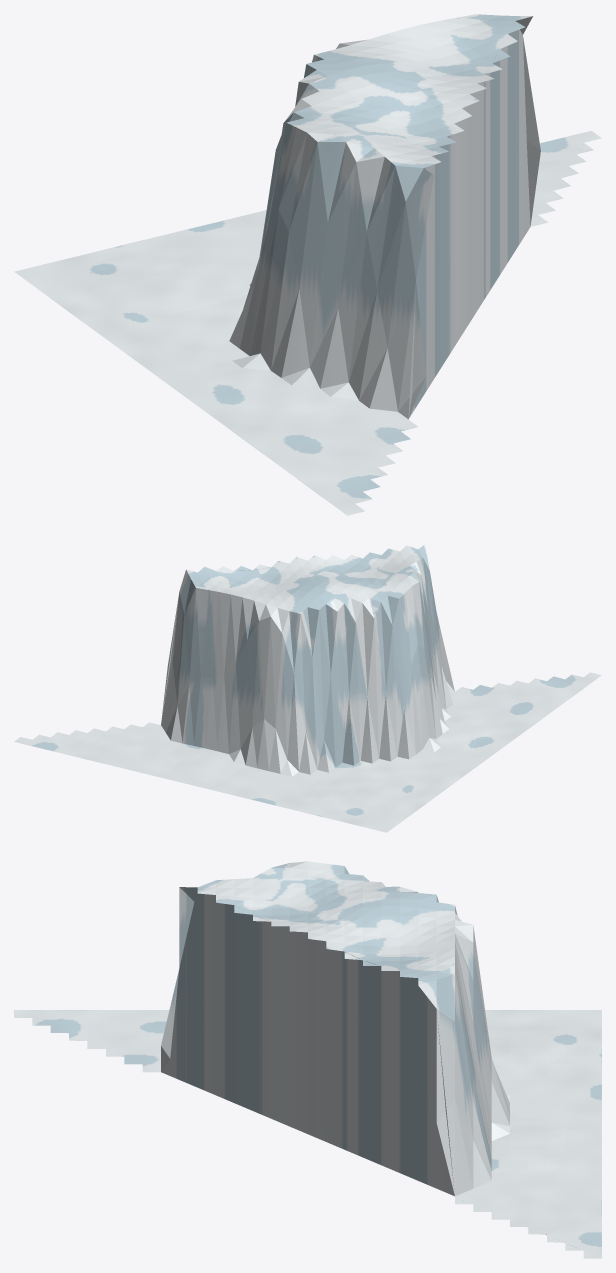
The model's file is Snow_Mountains_06_SW.obj.
3 renders of one model, top to bottom at view 1: azimuth 30°, elevation 25°; view 2: azimuth 150°, elevation 25°; view 3: azimuth 270°, elevation 25°, orthographic. The views are drawn at different scales.
Size of the model in its own units: 10 by 3.85 by 10.
1 material, 1 textured.
